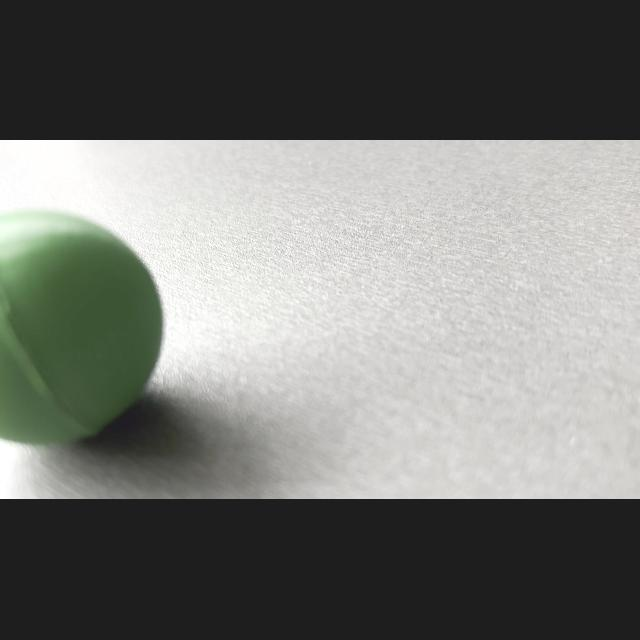objects: (2, 204, 168, 452)
